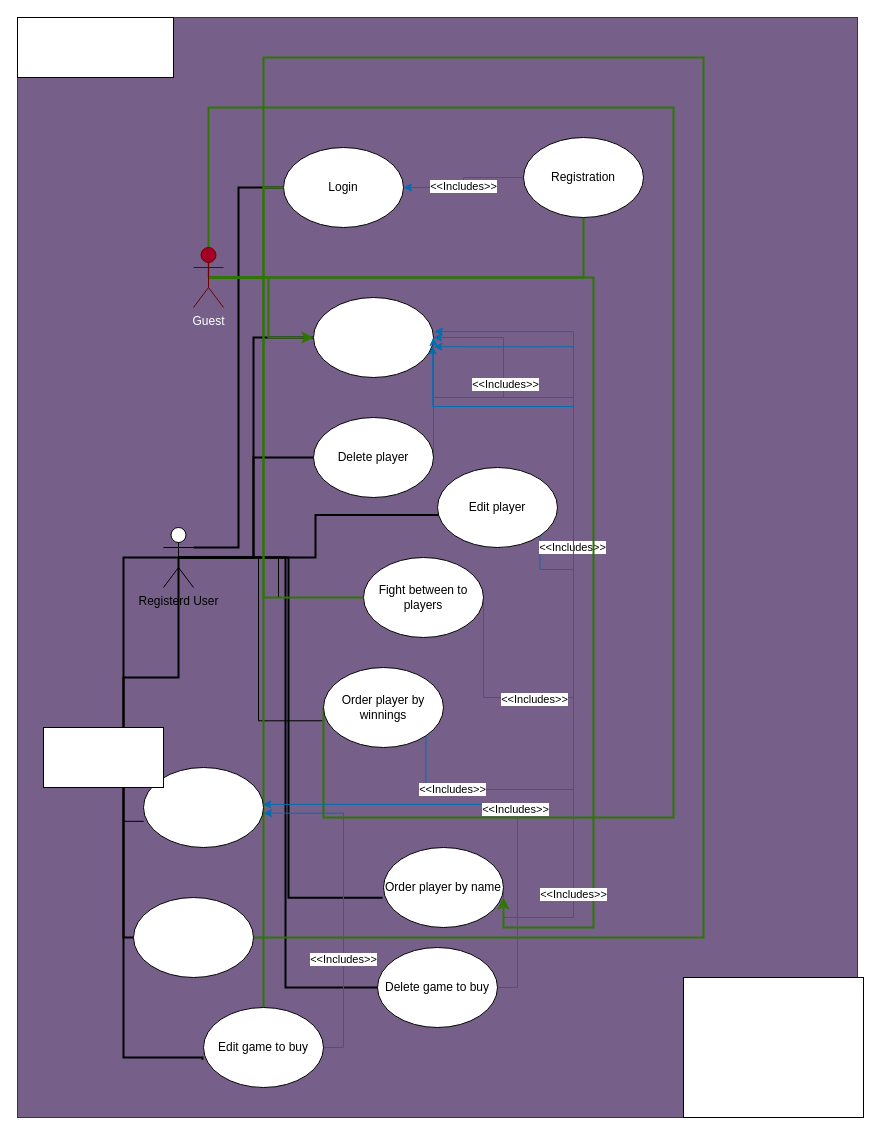
The diagram is 881 pixels wide and 1135 high, and some of its shapes have lost their labels. The shapes that lost their labels are listed below. From the top down, each one's centre as x and y in pixels, then its label:
the point at 95,47: Usecase Diagram BetaGramm
the point at 373,337: Create Player
the point at 203,807: Add Game To Buy
the point at 193,937: Show Random Gamer Info
the point at 773,1047: Authors: Till Strasser, Louis Widmer, Raksana Ravichandran
